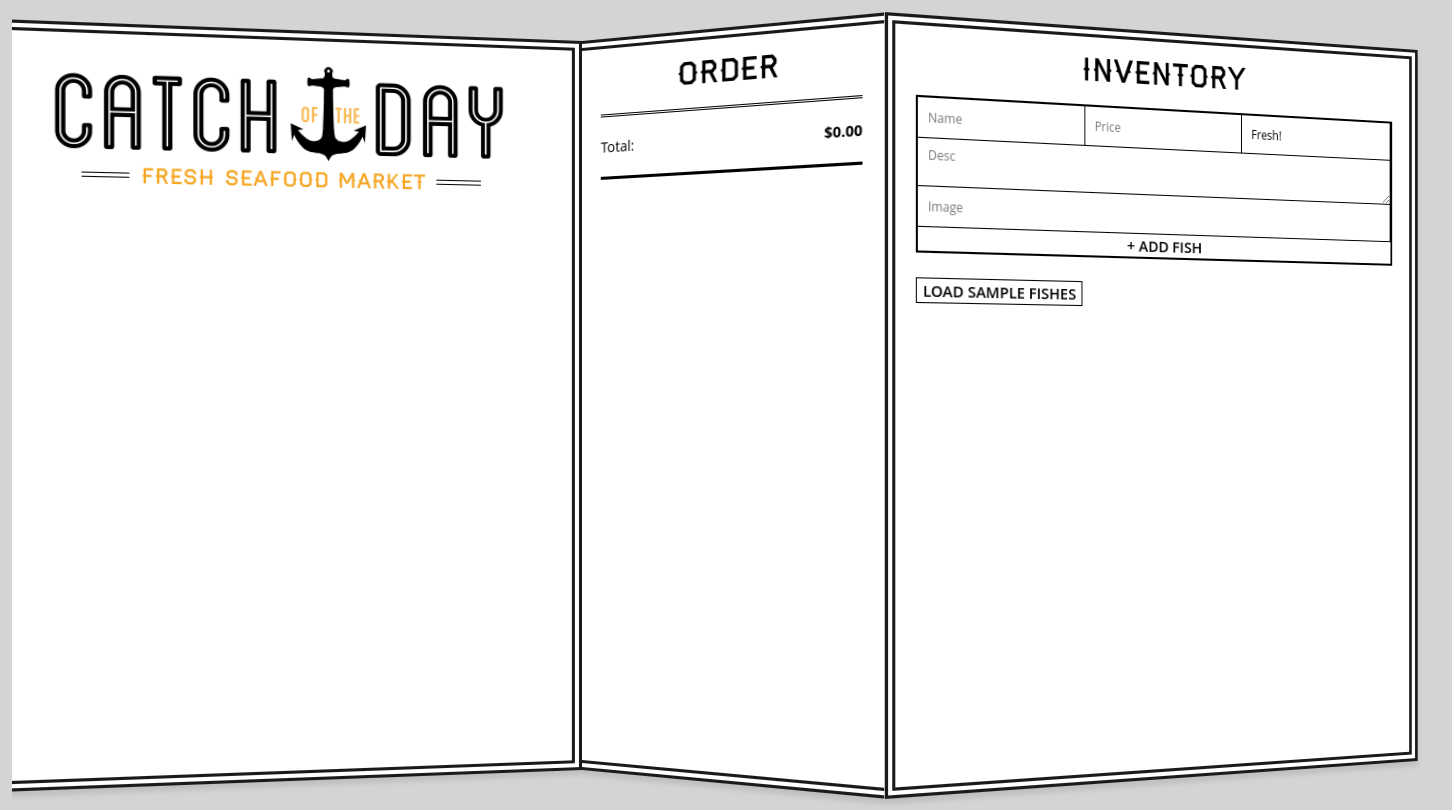
can add a fish to the inventory
The image size is (1452, 810).
// Open the Inventory form and add a fish
Step 1. Type "Salmon" into the field with placeholder "Name" → (1001, 121), box x1=918 y1=96 x2=1085 y2=145
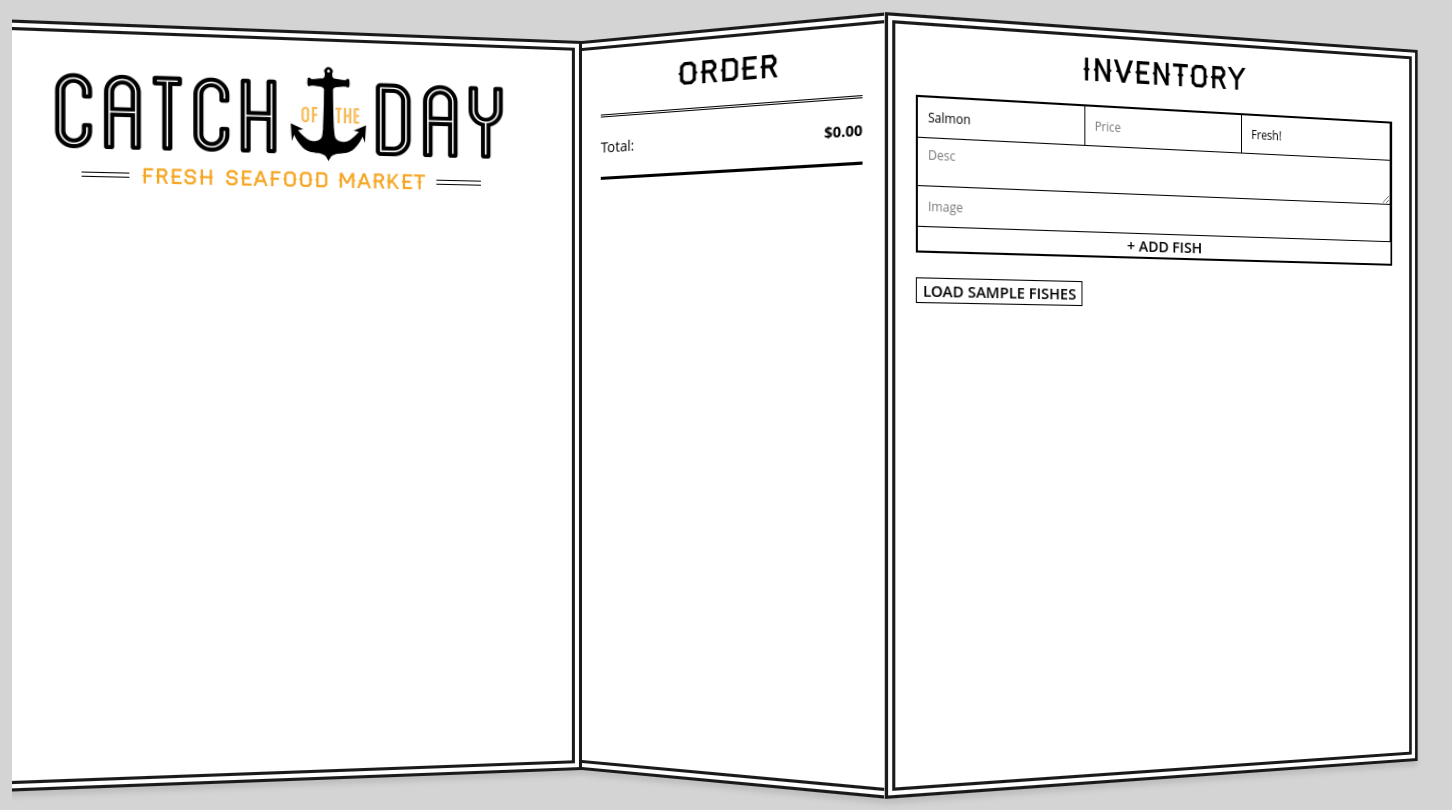
Step 2. Type "1000" into the field with placeholder "Price" → (1164, 130), box x1=1085 y1=106 x2=1242 y2=153
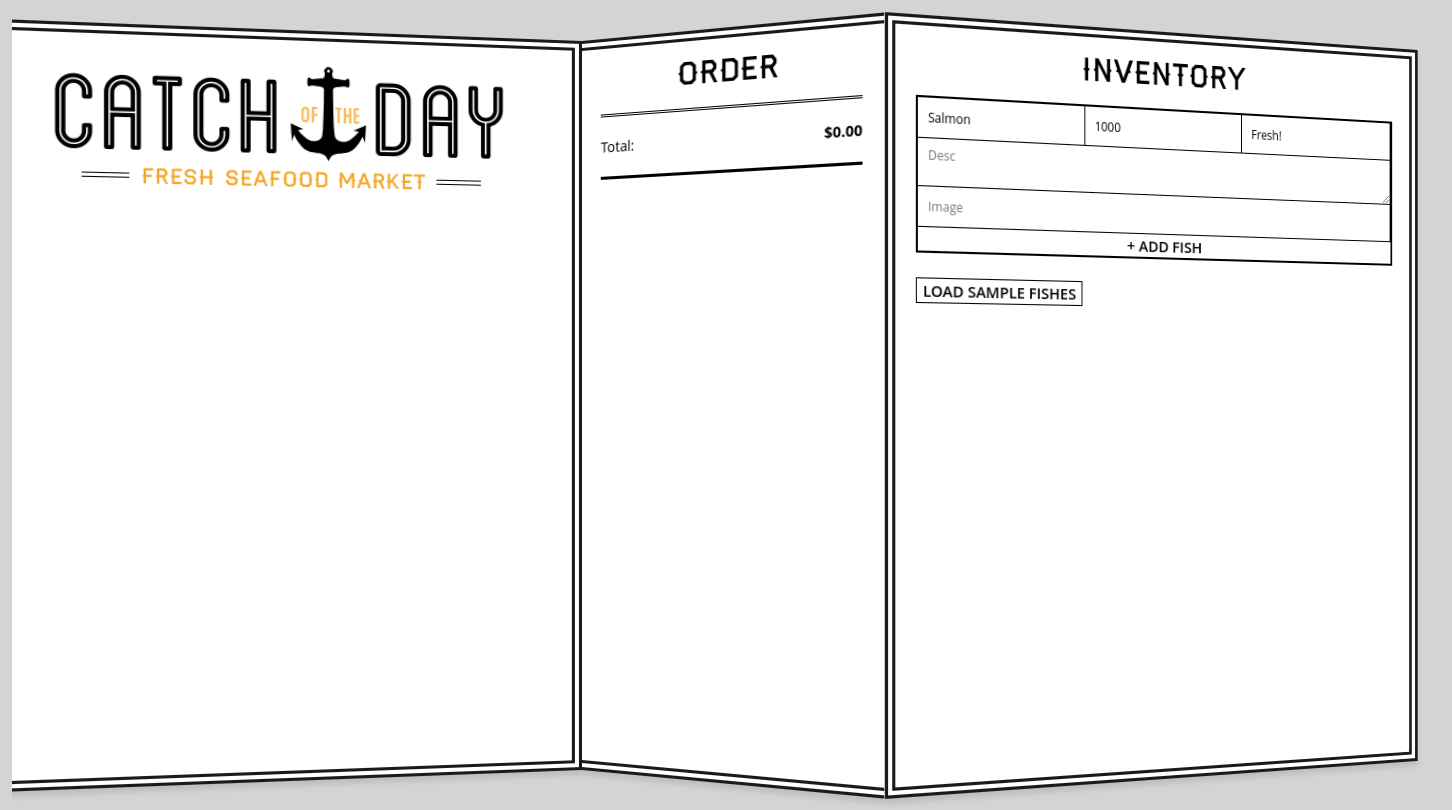
Step 3. Type "image.jpg" into the field with placeholder "Image" → (1154, 214), box x1=918 y1=186 x2=1390 y2=242
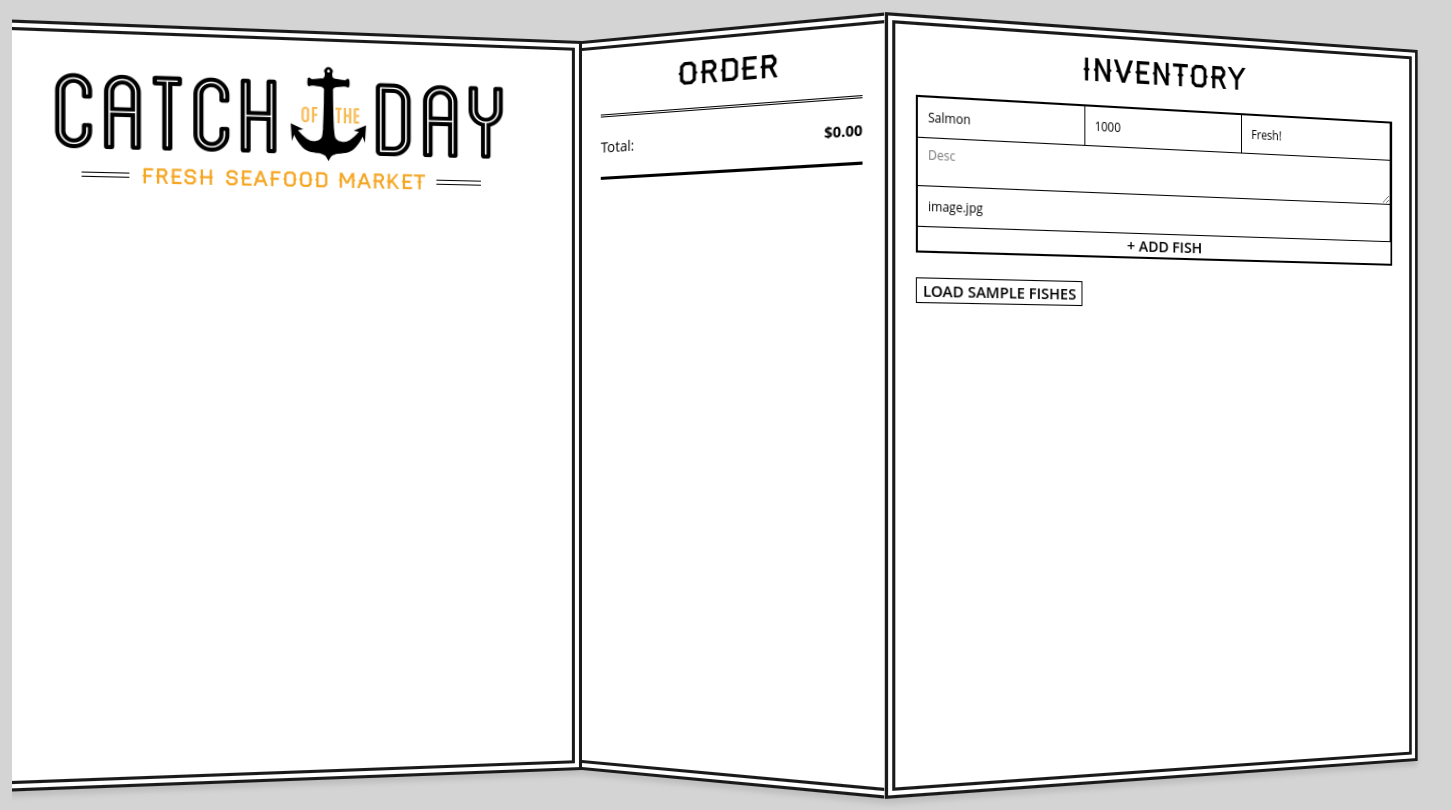
Step 4. Type "Fresh fish" into the text box with placeholder "Desc" → (1154, 171), box x1=918 y1=137 x2=1390 y2=204
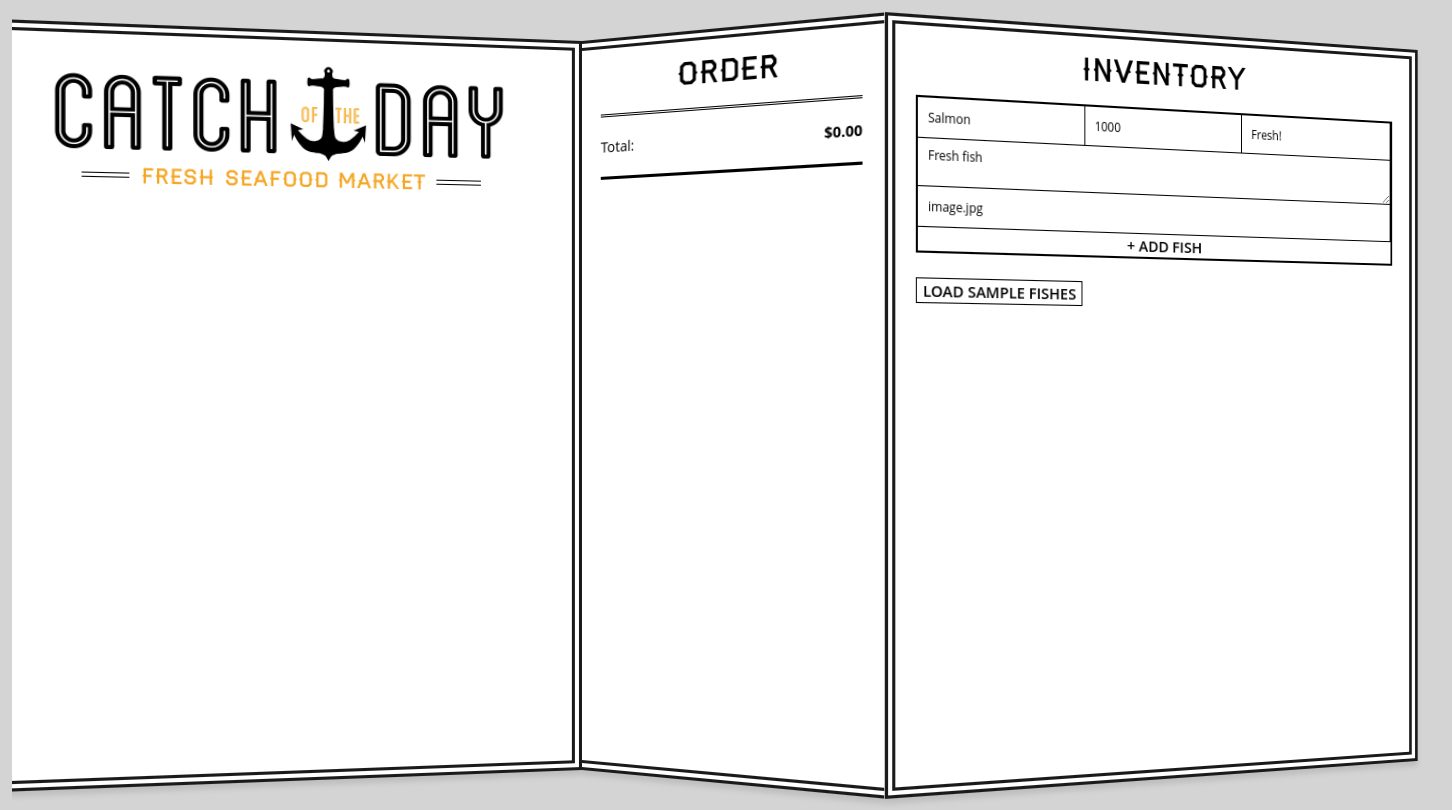
Step 5. Select "Fresh!" in the dropdown → (1316, 138), box x1=1242 y1=115 x2=1390 y2=160
// Submit the form to add the fish
Step 6. Click the button "+ Add Fish" → (1154, 245), box x1=918 y1=226 x2=1390 y2=263
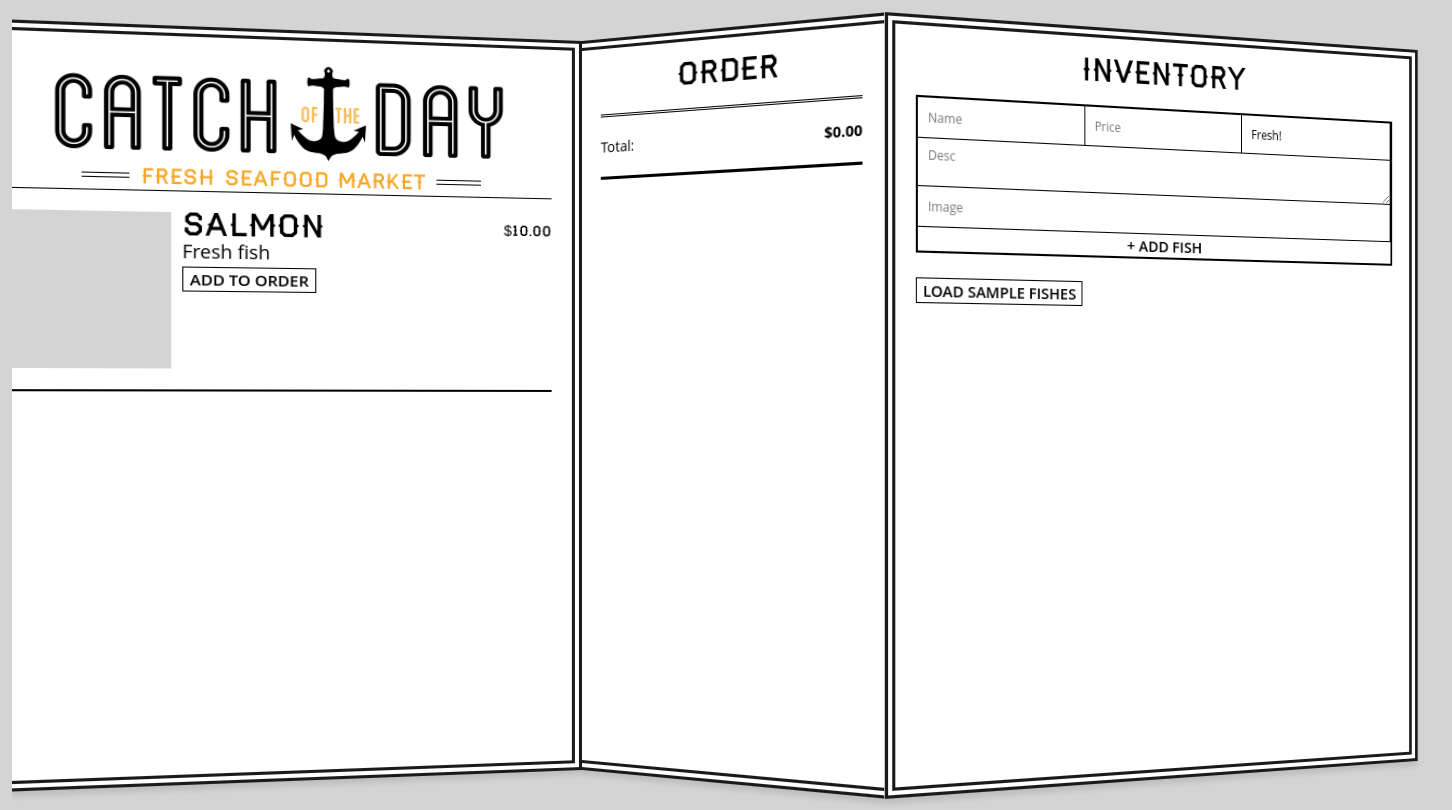
expect the heading "Salmon $10.00" is shown: met, box x1=182 y1=212 x2=552 y2=244
